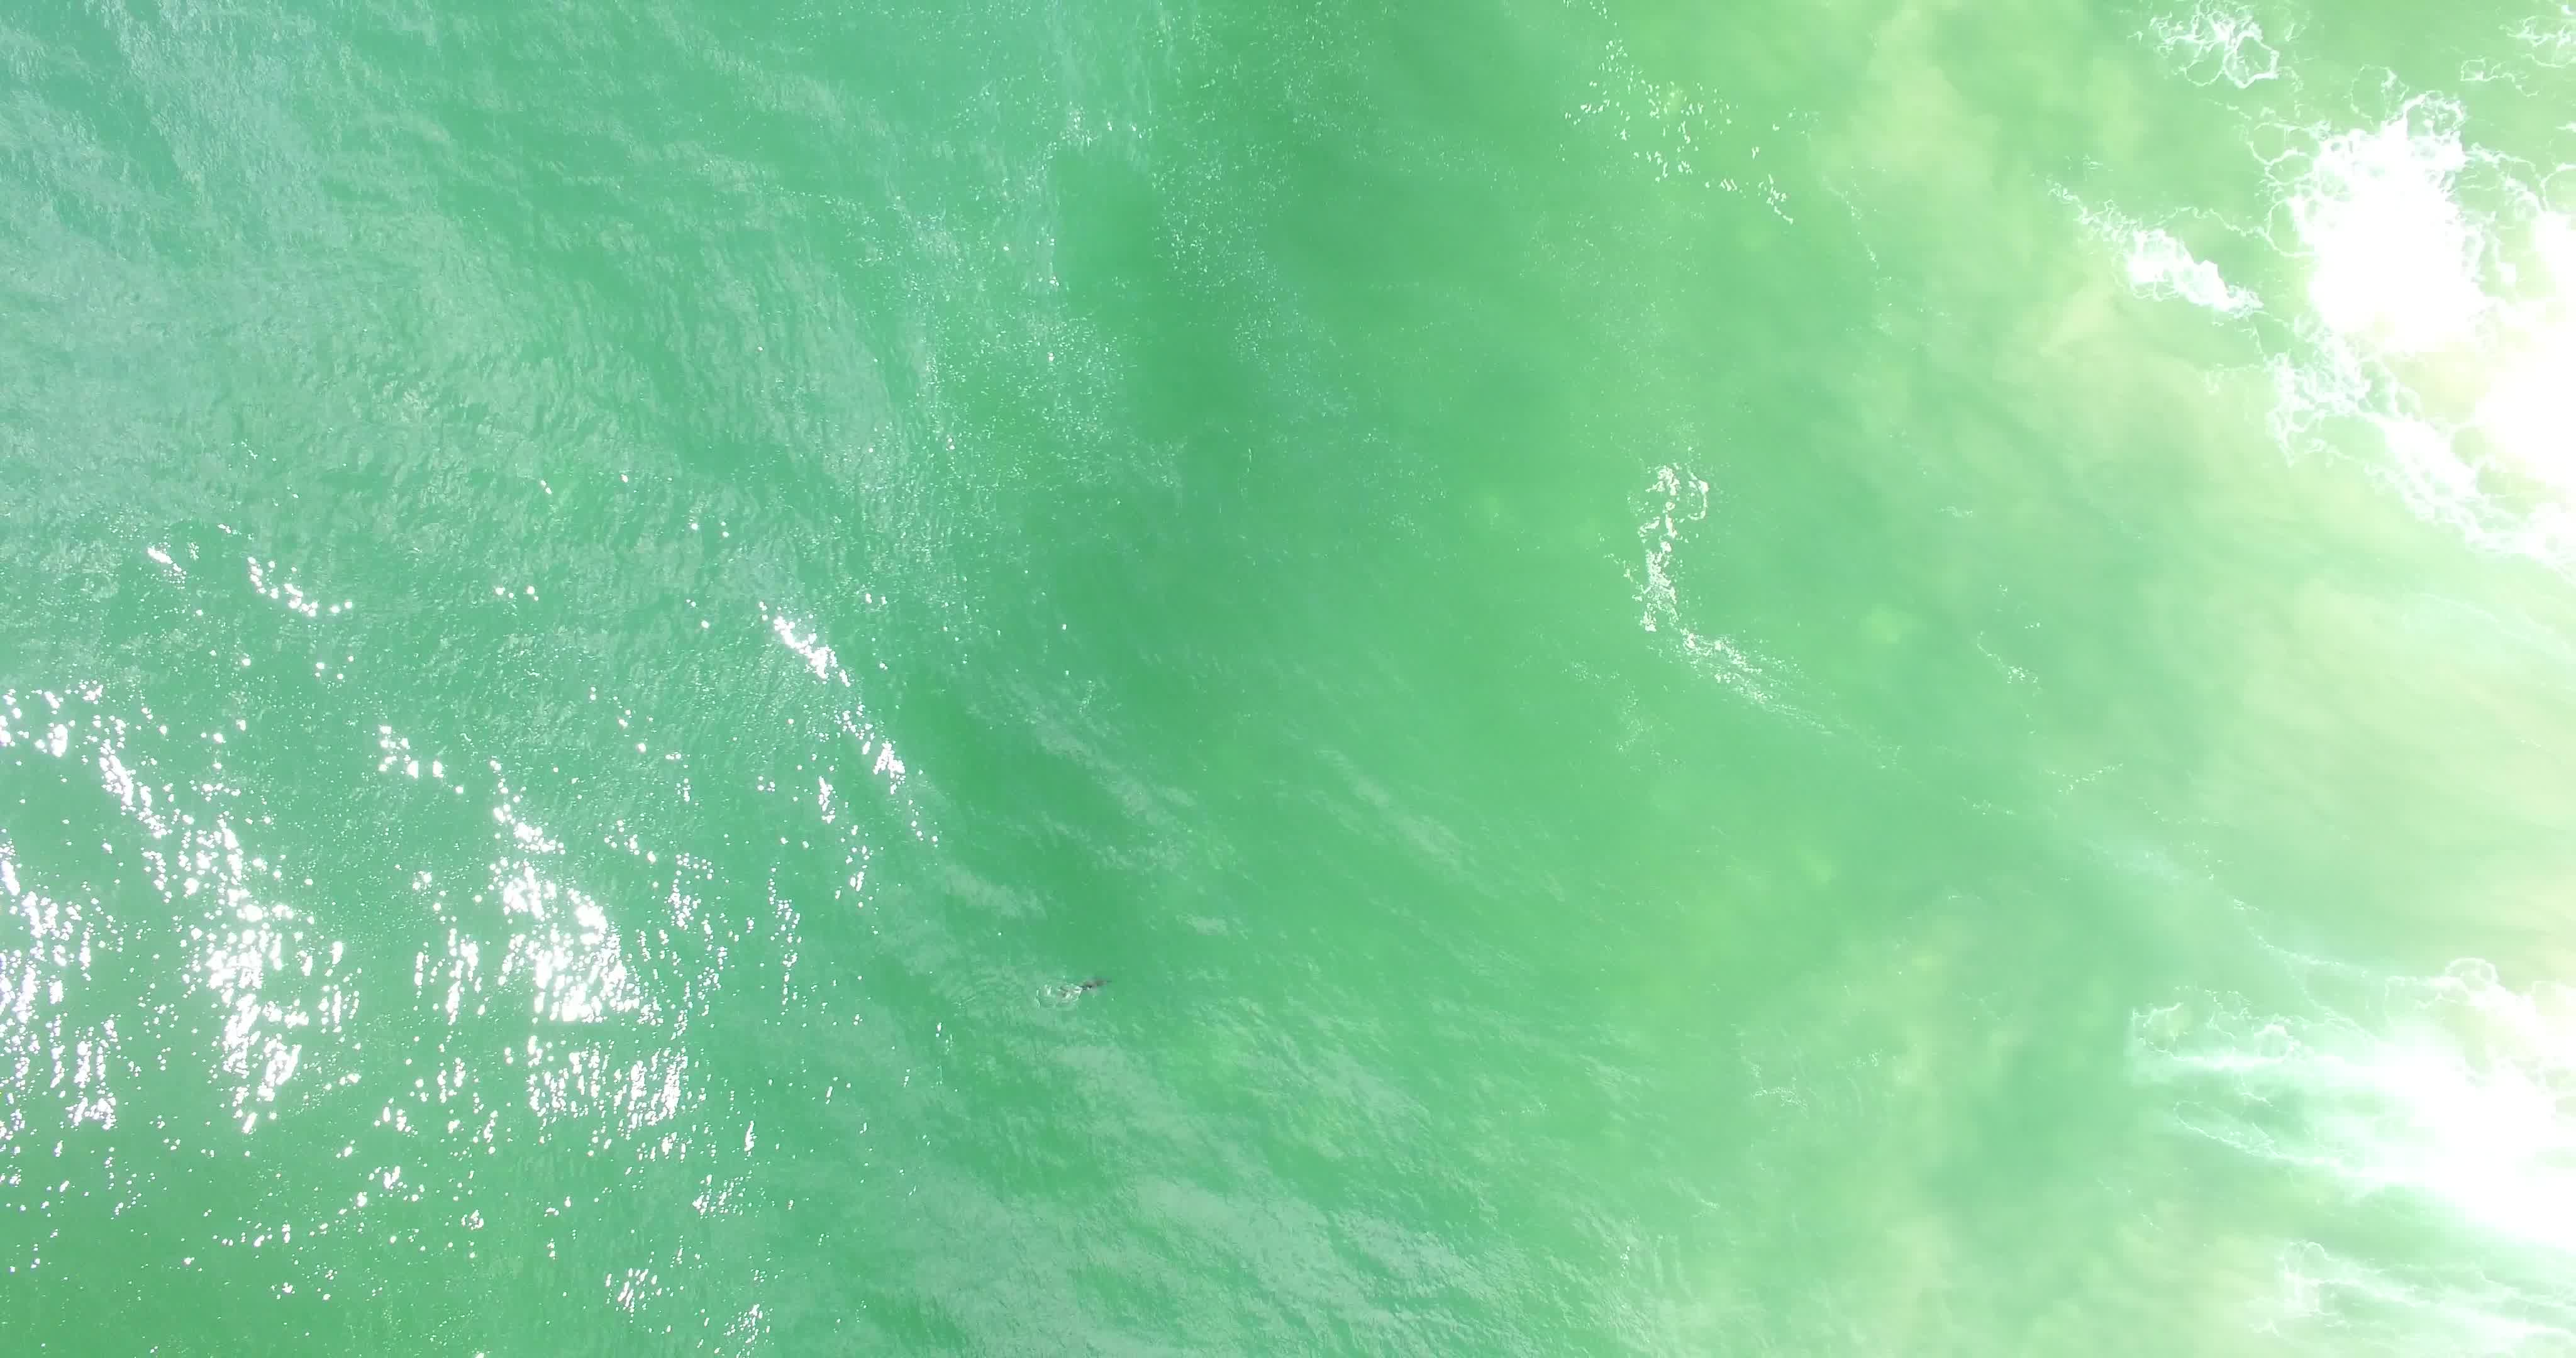dolphin: (1029, 954, 1130, 1014)
